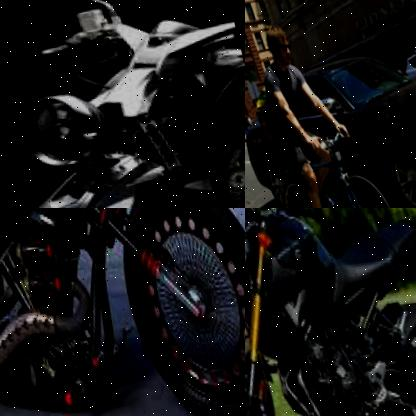bike: (0, 208, 245, 416), (245, 208, 416, 416)
car: (245, 27, 416, 208)
